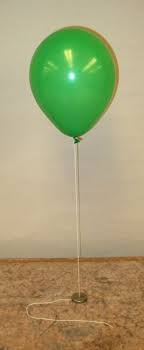Balloon: (28, 26, 120, 141)
